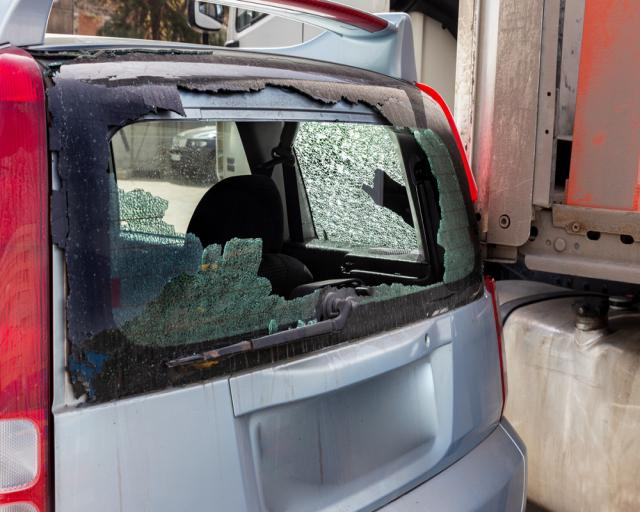glass shatter: (49, 74, 483, 406)
